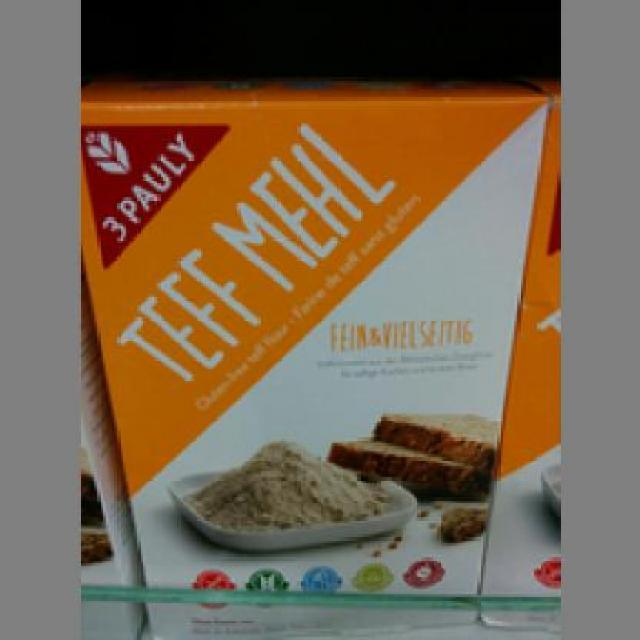Flour: (77, 71, 550, 632)
